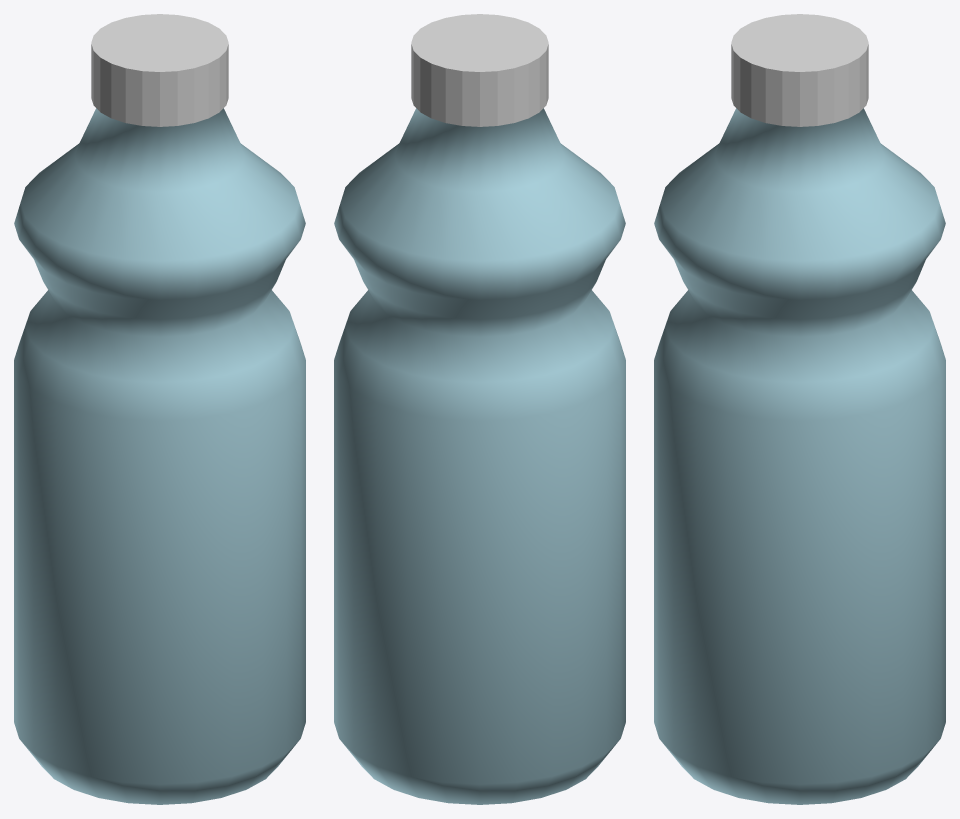
The model's file is Plastic_Bottle_2.fbx.
3 renders of one model, left to right at view 1: azimuth 30°, elevation 25°; view 2: azimuth 150°, elevation 25°; view 3: azimuth 270°, elevation 25°, orthographic.
Visible parts, largest first — view 1: Cylinder.030; view 2: Cylinder.030; view 3: Cylinder.030.
Part boxes in pixels (x1,y1,x2,y2): Cylinder.030: (14, 14, 305, 804); Cylinder.030: (334, 14, 625, 804); Cylinder.030: (654, 14, 945, 804).
Bounding box in the file's own units: 7.08 × 19.01 × 7.08.
